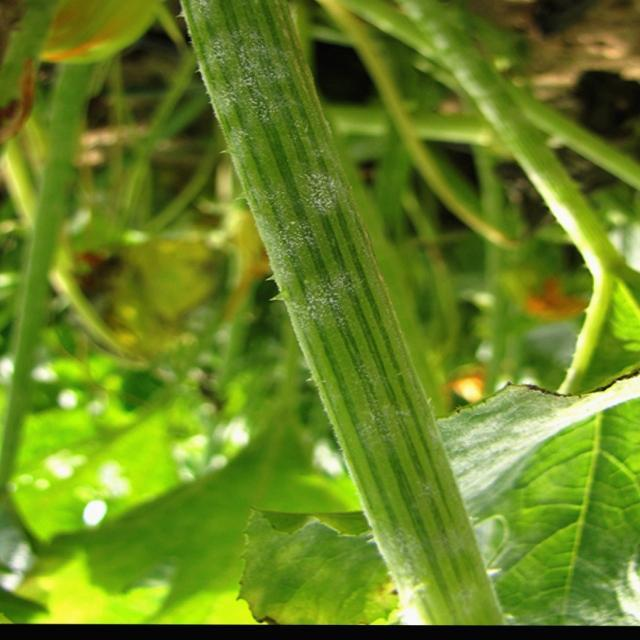Leaf_Mold: (224, 329, 640, 626), (160, 0, 444, 319)
